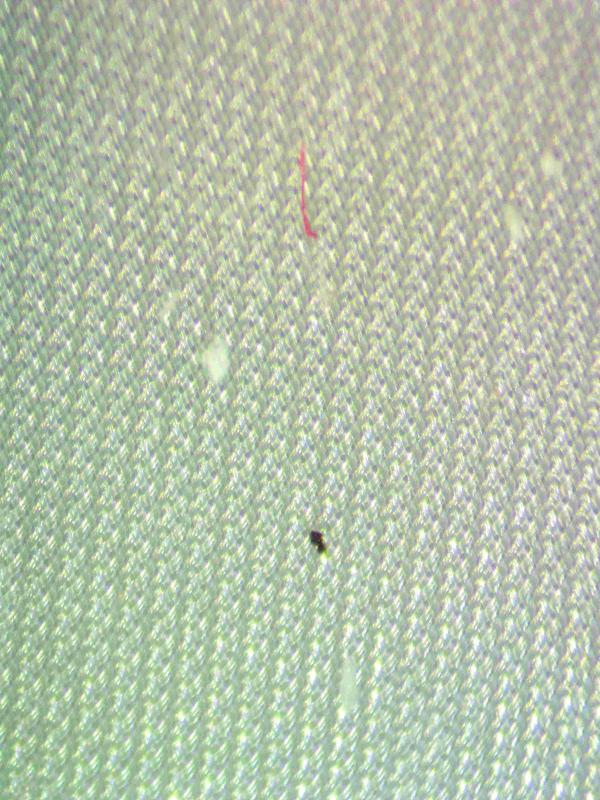microplastic: (296, 143, 318, 239), (308, 529, 327, 556)
